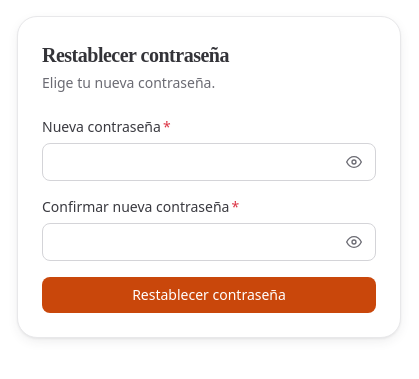
it: ResetPasswordPage › valida que las contraseñas coincidan cuando hay un token en la URL
Type "nuevaClave1" into the password field labelled "Nueva contraseña*" at {"x": 209, "y": 162}, box x1=42 y1=143 x2=376 y2=181
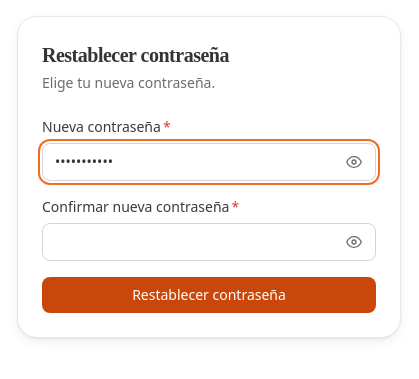
Type "otraClave2" into the password field labelled "Confirmar nueva contraseña*" at {"x": 209, "y": 242}, box x1=42 y1=223 x2=376 y2=261
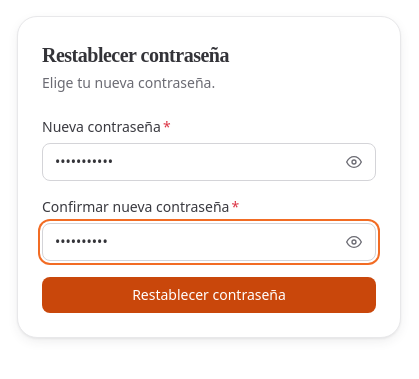
Click the button "Restablecer contraseña" at {"x": 209, "y": 295}, box x1=42 y1=277 x2=376 y2=313
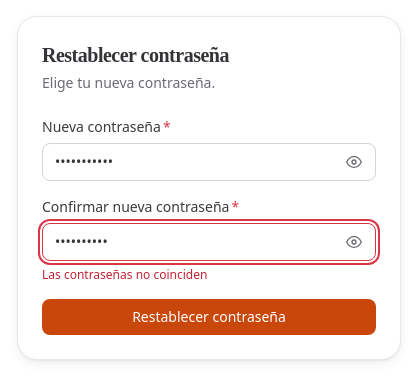
Expected: the text "Las contraseñas no coinciden" is shown, x1=42 y1=266 x2=207 y2=283
